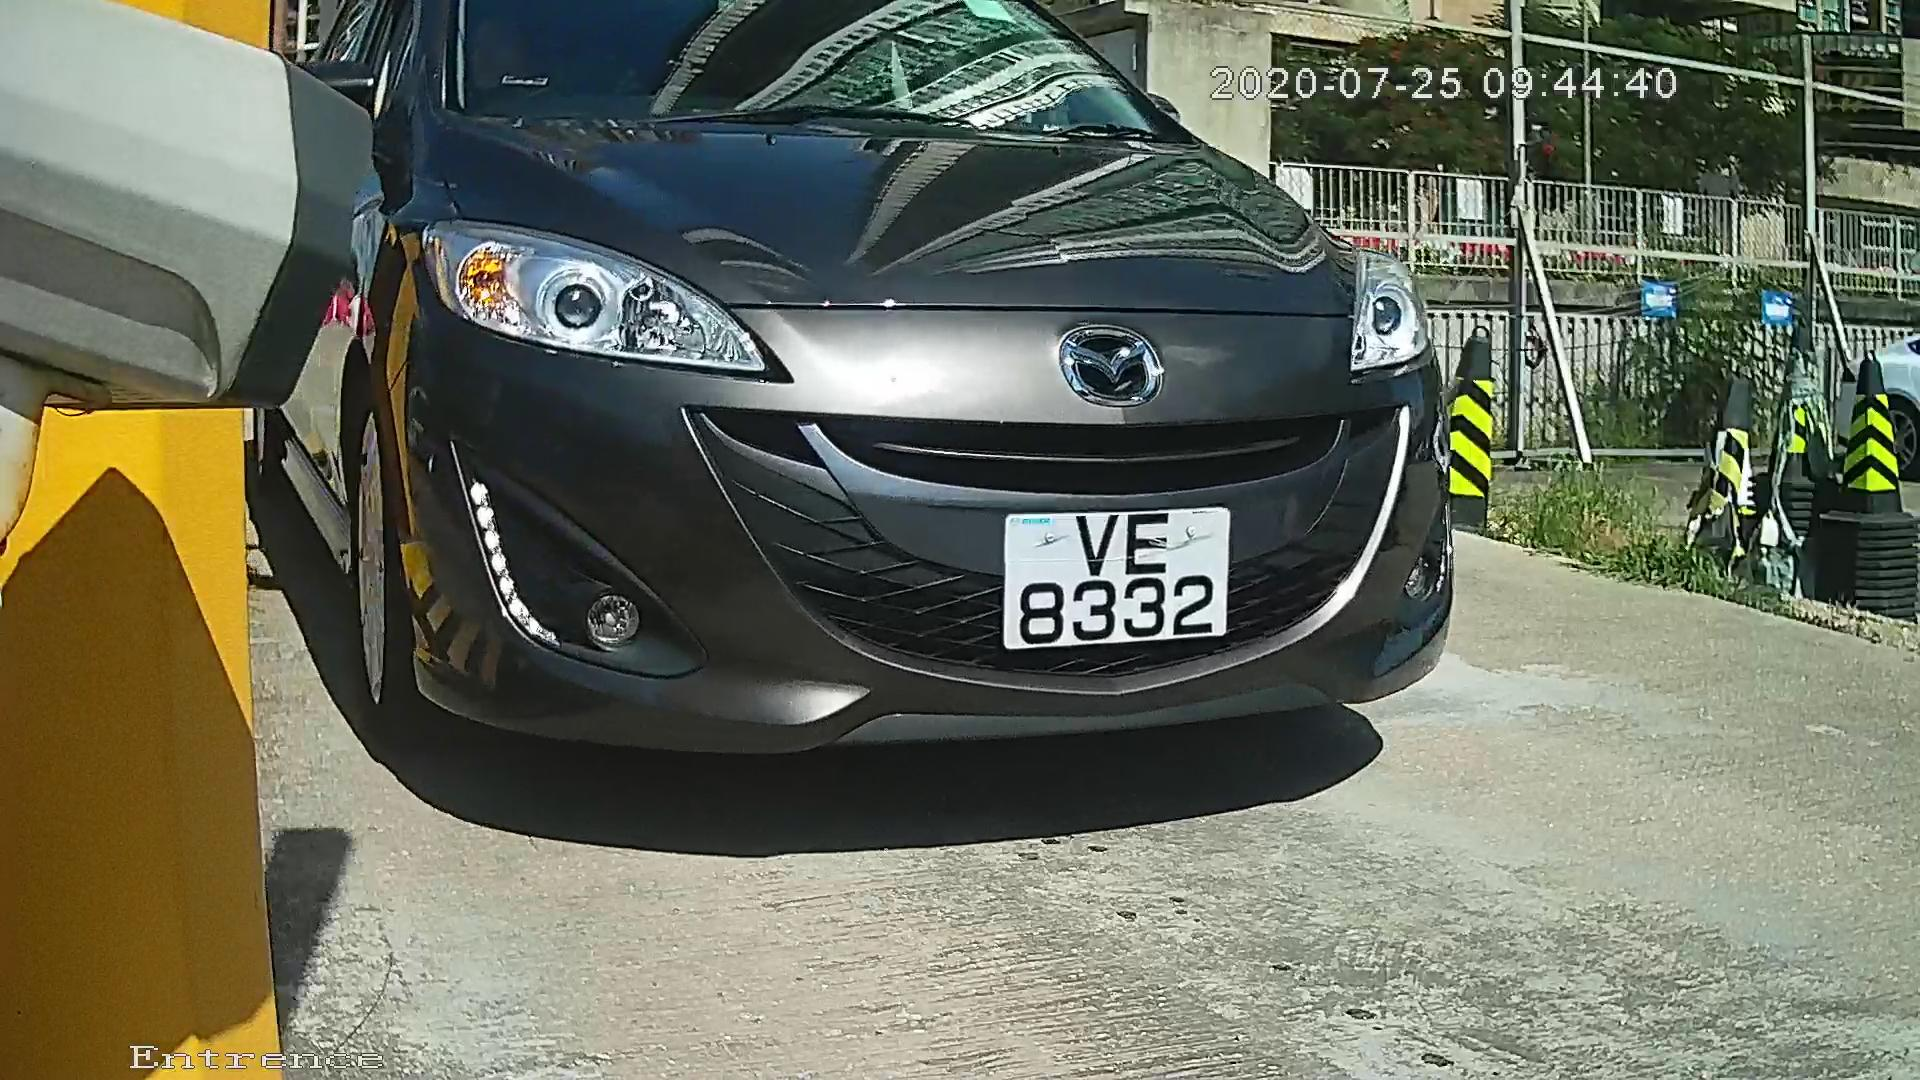License Plate: (978, 483, 1243, 671)
